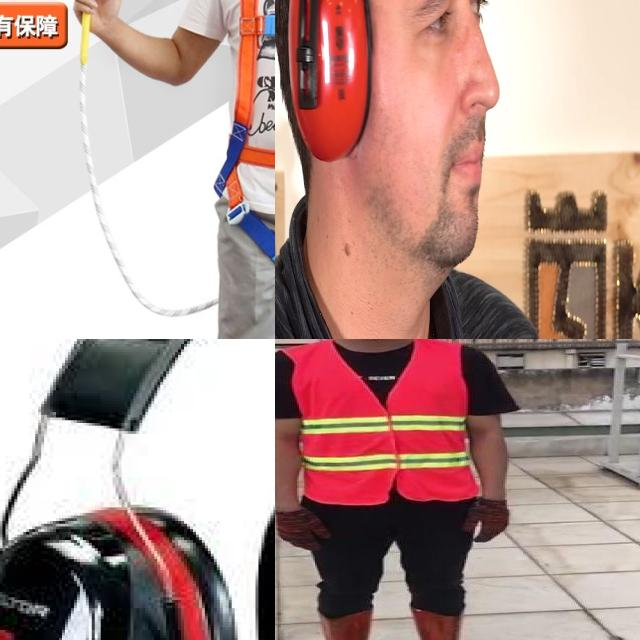Ear-protection: (0, 339, 275, 640), (275, 0, 511, 288)
Harness: (214, 0, 275, 283)
No_Glasses: (392, 0, 495, 59)
boots: (414, 608, 489, 640), (316, 609, 370, 640)
person: (275, 339, 528, 640)
vest: (286, 344, 472, 503)
